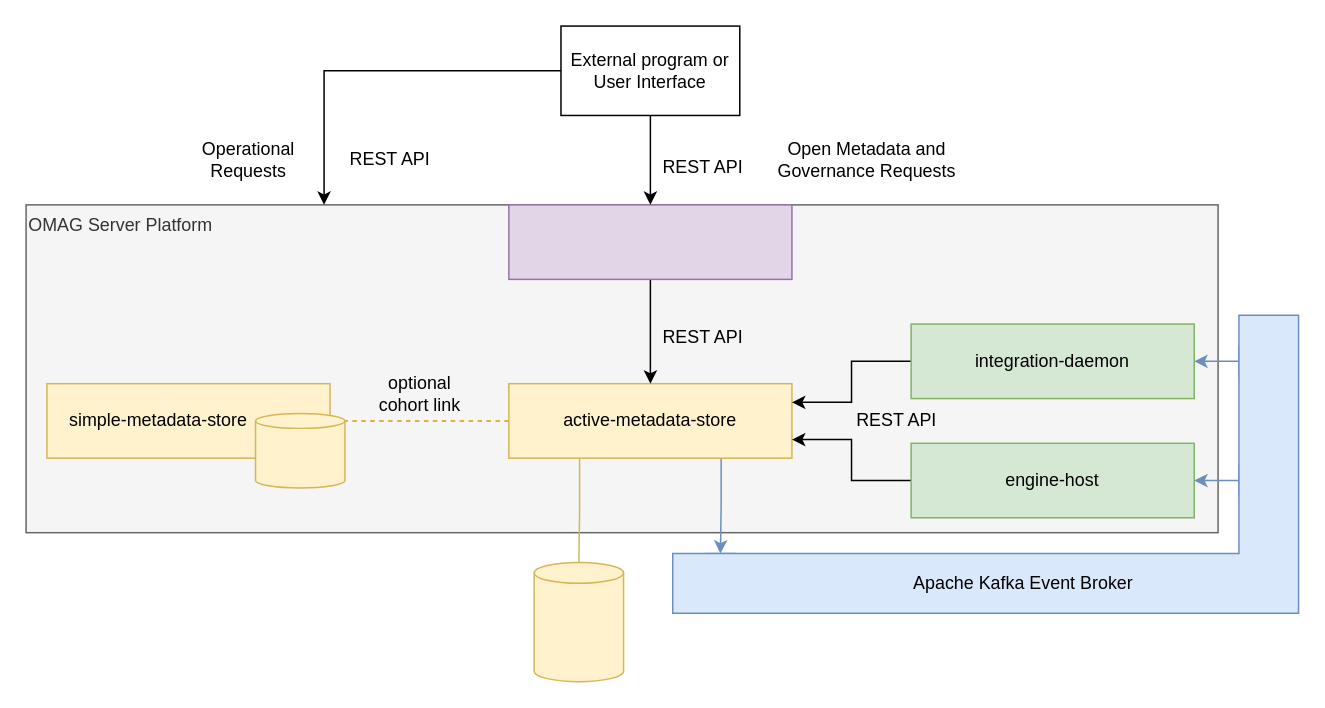
This 1325x708 diagram has some shape labels left out. The shapes that lost their labels are listed below. From the top down, each one's centre as x and y in pixels, then its label:
At point 649,241: "view-server".
At point 299,450: "In Memory Repository".
At point 578,621: "XTDB Metadata Repository".
